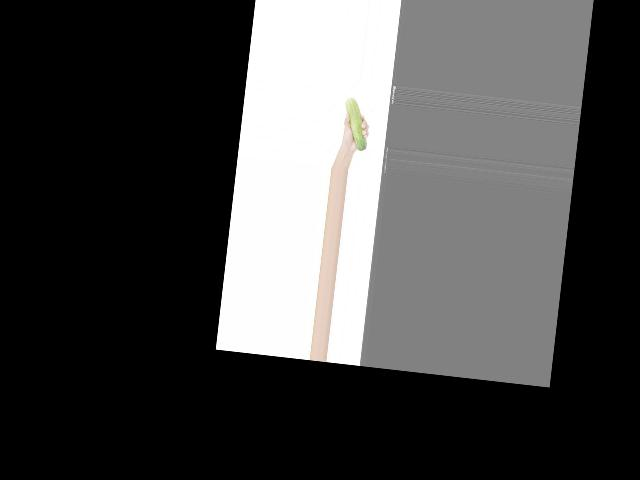cucumber: (340, 97, 371, 152)
